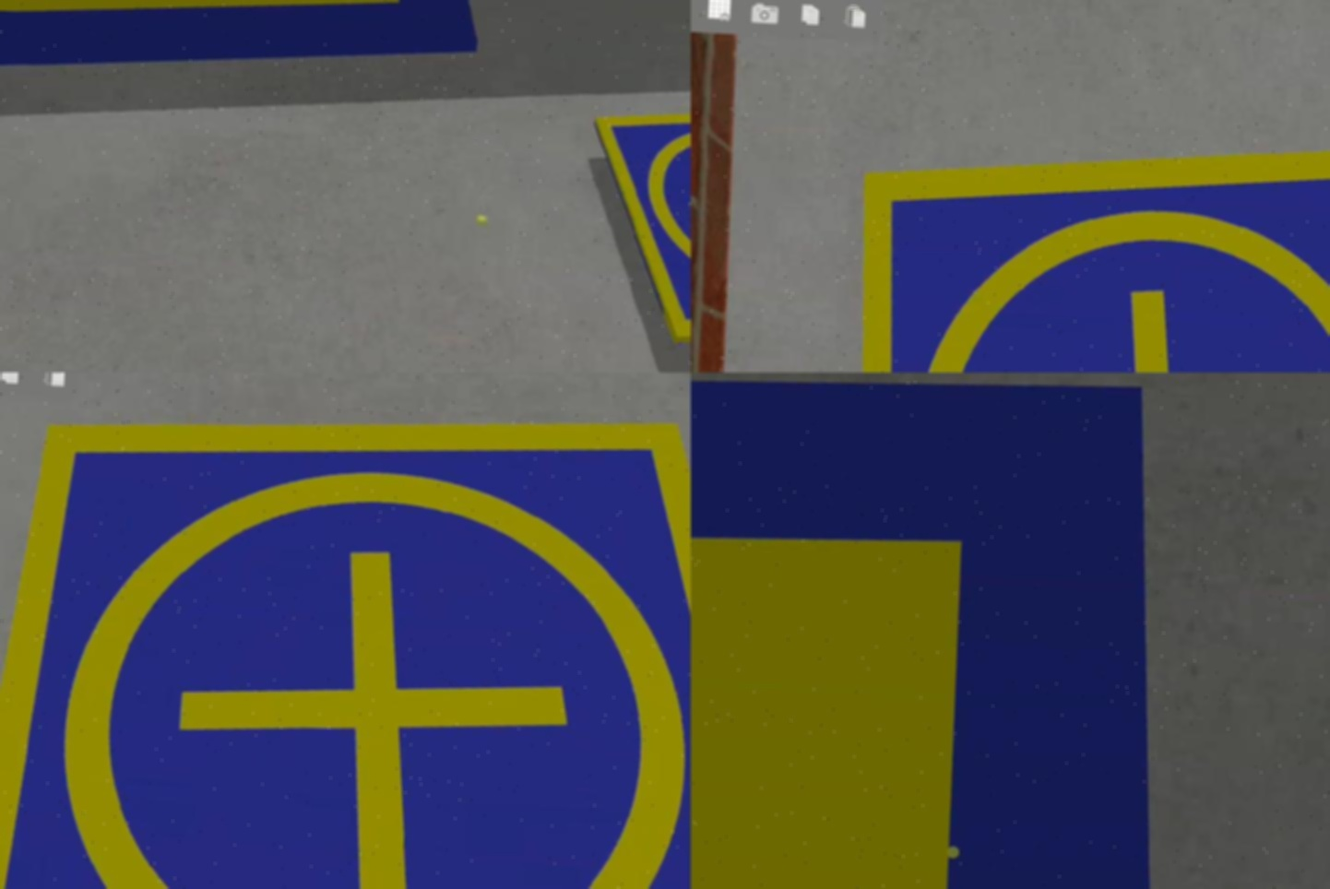large_base: (692, 373, 1199, 889), (1, 1, 483, 93)
small_base: (1, 387, 692, 889), (833, 118, 1330, 373), (582, 98, 692, 352)
